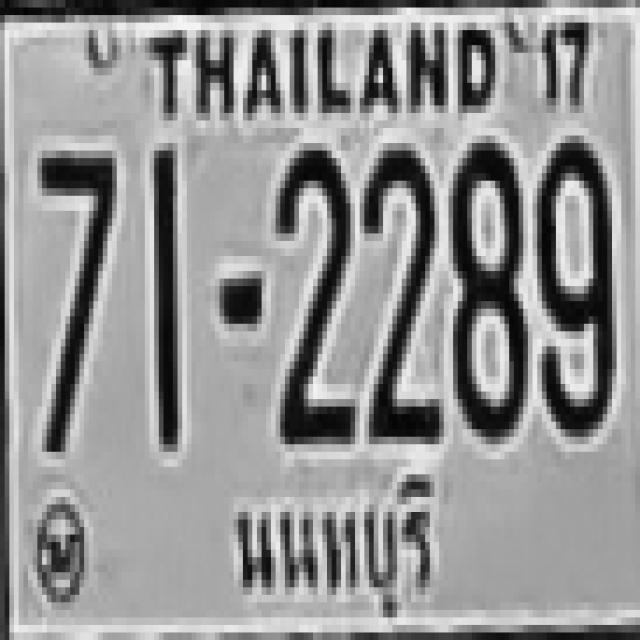1: (150, 147, 178, 448)
2: (273, 143, 356, 443), (360, 147, 444, 440)
7: (37, 147, 112, 448)
8: (449, 136, 531, 444)
9: (532, 136, 620, 437)
Nonthaburi: (224, 456, 440, 626)
